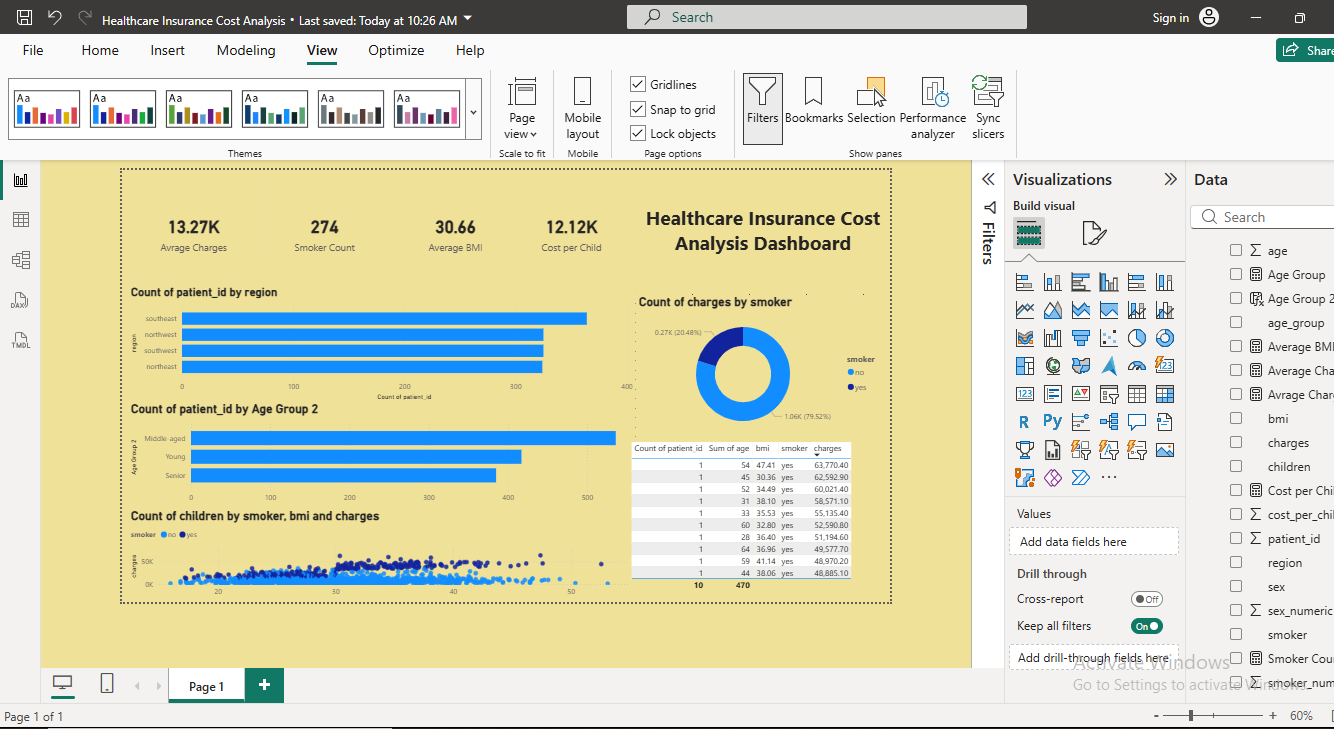

The dashboard page shown, as its layout file describes it:
{"tool":"powerbi","page":{"name":"Page 1","canvas":[1280,720],"ordinal":0},"visuals":[{"type":"card","fields":{"Values":["healthcare patients.Avrage Charges"]},"box":[10.1,0,218.4,208.3],"z":0},{"type":"card","fields":{"Values":["healthcare patients.Smoker Count"]},"box":[228.5,0,218.4,208.3],"z":1000},{"type":"card","fields":{"Values":["healthcare patients.Average BMI"]},"box":[446.8,0,218.4,208.3],"z":2000},{"type":"card","fields":{"Values":["healthcare patients.Cost per Child"]},"box":[640,0,218.4,208.3],"z":3000},{"type":"clusteredBarChart","fields":{"Category":["healthcare patients.region"],"Y":["CountNonNull(healthcare patients.patient_id)"]},"box":[10.7,191.1,846.4,196.4],"z":4000},{"type":"clusteredBarChart","fields":{"Category":["healthcare patients.Age Group 2"],"Y":["CountNonNull(healthcare patients.patient_id)"]},"box":[10.7,387.5,846.4,176.8],"z":5000},{"type":"scatterChart","fields":{"X":["healthcare patients.bmi"],"Y":["healthcare patients.charges"],"Size":["CountNonNull(healthcare patients.children)"],"Series":["healthcare patients.smoker"]},"box":[10.7,564.3,848.2,155.4],"z":6000},{"type":"tableEx","fields":{"Values":["CountNonNull(healthcare patients.patient_id)","Sum(healthcare patients.age)","healthcare patients.bmi","healthcare patients.smoker","healthcare patients.charges"]},"box":[842.9,448.2,437.5,271.4],"z":7000},{"type":"textbox","box":[857.1,0,423.2,207.1],"z":8000},{"type":"donutChart","fields":{"Category":["healthcare patients.smoker"],"Y":["CountNonNull(healthcare patients.charges)"]},"box":[857,207.6,422.8,240.5],"z":9000}]}

Visuals, with their boxes on the page's 1280x720 design canvas (x1, y1, x2, y2). These are canvas units, not pixel positions in the 1334x729 screenshot, which may show the page scaled, cropped or inside an application window:
card - healthcare patients.Avrage Charges: bbox=[10, 0, 228, 208]
card - healthcare patients.Smoker Count: bbox=[228, 0, 447, 208]
card - healthcare patients.Average BMI: bbox=[447, 0, 665, 208]
card - healthcare patients.Cost per Child: bbox=[640, 0, 858, 208]
clusteredBarChart - healthcare patients.region x CountNonNull(healthcare patients.patient_id): bbox=[11, 191, 857, 388]
clusteredBarChart - healthcare patients.Age Group 2 x CountNonNull(healthcare patients.patient_id): bbox=[11, 388, 857, 564]
scatterChart - healthcare patients.bmi x healthcare patients.charges: bbox=[11, 564, 859, 720]
tableEx - CountNonNull(healthcare patients.patient_id) x Sum(healthcare patients.age): bbox=[843, 448, 1280, 720]
textbox: bbox=[857, 0, 1280, 207]
donutChart - healthcare patients.smoker x CountNonNull(healthcare patients.charges): bbox=[857, 208, 1280, 448]
